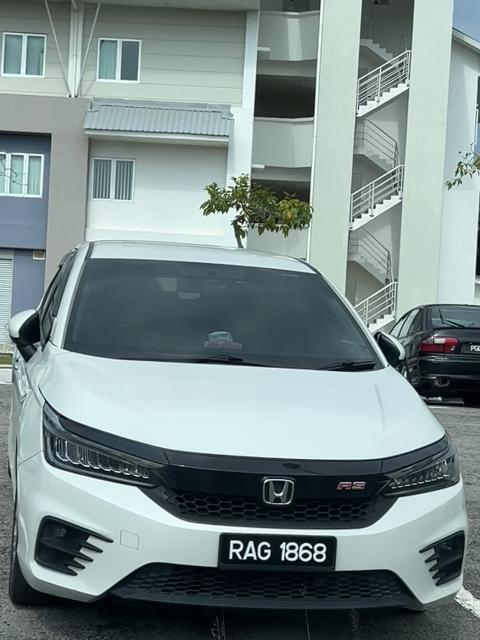License_Plate: (218, 532, 340, 576)
RAG1868: (218, 532, 340, 576)
car: (1, 241, 480, 640)
